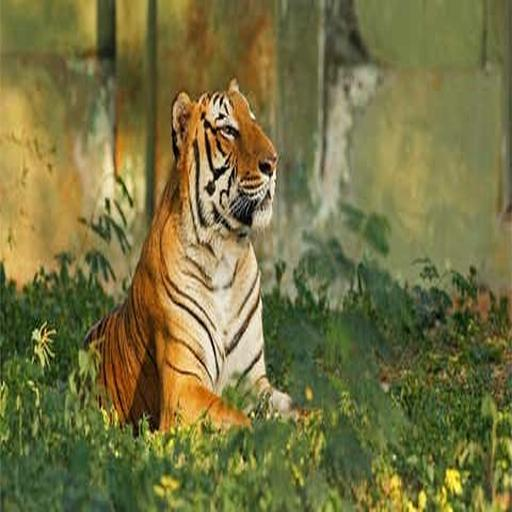Tiger: (63, 73, 335, 456)
